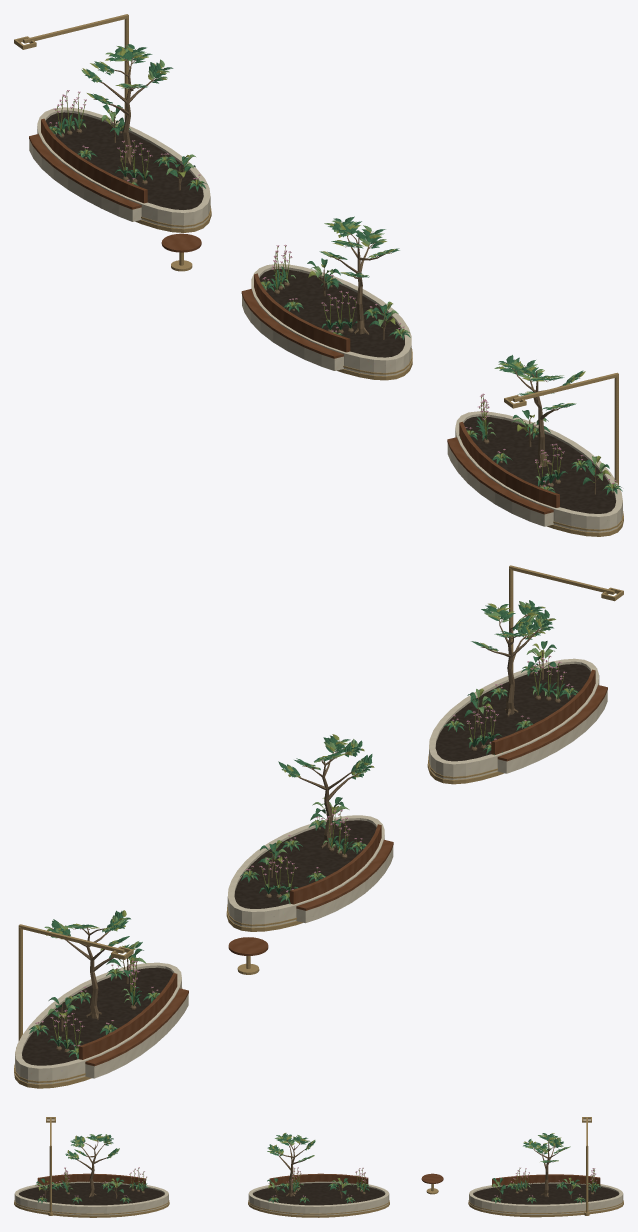
Rendered from G7_Completion_R006B_G7C6_D09_ComposedEdge.glb.
3 views of the same model, one above another, from view 1: azimuth 30°, elevation 25°; view 2: azimuth 150°, elevation 25°; view 3: azimuth 270°, elevation 25° (orthographic). The views are drawn at different scales.
Visible parts, largest first — view 1: G7C6_D09_ComposedEdge_G7C6_soil_solid_planter, G7C6_D09_ComposedEdge_G7C6_wood_solid_furniture, G7C6_D09_ComposedEdge_G7C6_stone_solid_planter, G7C6_D09_ComposedEdge_G7C6_stone_solid_furniture, G7C6_D09_ComposedEdge_ASTRAEA_botanical_leaf_jade_visual_fol, G7C6_D09_ComposedEdge_ASTRAEA_botanical_bark_solid_tree_bark, G7C6_D09_ComposedEdge_G7C6_metal_solid_fixture, G7C6_D09_ComposedEdge_G7C6_metal_solid_planter, G7C6_D09_ComposedEdge_ASTRAEA_botanical_leaf_olive.004_visua, G7C6_D09_ComposedEdge_ASTRAEA_botanical_leaf_sage_visual_fol, G7C6_D09_ComposedEdge_ASTRAEA_botanical_leaf_jade.004_visual, G7C6_D09_ComposedEdge_ASTRAEA_botanical_leaf_olive_visual_fo (+3 smaller); view 2: G7C6_D09_ComposedEdge_G7C6_soil_solid_planter, G7C6_D09_ComposedEdge_G7C6_wood_solid_furniture, G7C6_D09_ComposedEdge_G7C6_stone_solid_planter, G7C6_D09_ComposedEdge_G7C6_stone_solid_furniture, G7C6_D09_ComposedEdge_ASTRAEA_botanical_leaf_jade_visual_fol, G7C6_D09_ComposedEdge_ASTRAEA_botanical_bark_solid_tree_bark, G7C6_D09_ComposedEdge_G7C6_metal_solid_fixture, G7C6_D09_ComposedEdge_G7C6_metal_solid_planter, G7C6_D09_ComposedEdge_ASTRAEA_botanical_leaf_olive.004_visua, G7C6_D09_ComposedEdge_ASTRAEA_botanical_leaf_jade.002_visual, G7C6_D09_ComposedEdge_ASTRAEA_botanical_leaf_jade.001_visual, G7C6_D09_ComposedEdge_ASTRAEA_botanical_leaf_jade.004_visual (+3 smaller); view 3: G7C6_D09_ComposedEdge_G7C6_soil_solid_planter, G7C6_D09_ComposedEdge_G7C6_stone_solid_planter, G7C6_D09_ComposedEdge_G7C6_wood_solid_furniture, G7C6_D09_ComposedEdge_G7C6_metal_solid_planter, G7C6_D09_ComposedEdge_ASTRAEA_botanical_leaf_jade_visual_fol, G7C6_D09_ComposedEdge_ASTRAEA_botanical_bark_solid_tree_bark, G7C6_D09_ComposedEdge_G7C6_metal_solid_fixture, G7C6_D09_ComposedEdge_ASTRAEA_botanical_leaf_olive.004_visua, G7C6_D09_ComposedEdge_ASTRAEA_botanical_leaf_olive_visual_fo, G7C6_D09_ComposedEdge_ASTRAEA_botanical_leaf_sage_visual_fol, G7C6_D09_ComposedEdge_ASTRAEA_botanical_leaf_jade.002_visual, G7C6_D09_ComposedEdge_ASTRAEA_botanical_leaf_jade.001_visual (+7 smaller).
Part boxes in pixels (x1,y1,x2,y2): G7C6_D09_ComposedEdge_G7C6_soil_solid_planter: (46,112,615,513); G7C6_D09_ComposedEdge_G7C6_wood_solid_furniture: (29,118,559,514); G7C6_D09_ComposedEdge_G7C6_stone_solid_planter: (37,107,622,532); G7C6_D09_ComposedEdge_G7C6_stone_solid_furniture: (29,140,553,526); G7C6_D09_ComposedEdge_ASTRAEA_botanical_leaf_jade_visual_fol: (85,44,583,410); G7C6_D09_ComposedEdge_ASTRAEA_botanical_bark_solid_tree_bark: (85,49,579,468); G7C6_D09_ComposedEdge_G7C6_metal_solid_fixture: (14,14,618,485); G7C6_D09_ComposedEdge_G7C6_metal_solid_planter: (135,206,623,536); G7C6_D09_ComposedEdge_ASTRAEA_botanical_leaf_olive.004_visua: (55,91,563,485); G7C6_D09_ComposedEdge_ASTRAEA_botanical_leaf_sage_visual_fol: (81,45,578,408); G7C6_D09_ComposedEdge_ASTRAEA_botanical_leaf_jade.004_visual: (50,113,567,486); G7C6_D09_ComposedEdge_ASTRAEA_botanical_leaf_olive_visual_fo: (82,47,585,408); G7C6_D09_ComposedEdge_G7C6_soil_solid_planter: (22,664,590,1065); G7C6_D09_ComposedEdge_G7C6_wood_solid_furniture: (79,669,607,1066); G7C6_D09_ComposedEdge_G7C6_stone_solid_planter: (15,658,599,1084); G7C6_D09_ComposedEdge_G7C6_stone_solid_furniture: (85,691,607,1078); G7C6_D09_ComposedEdge_ASTRAEA_botanical_leaf_jade_visual_fol: (48,600,553,949); G7C6_D09_ComposedEdge_ASTRAEA_botanical_bark_solid_tree_bark: (51,607,550,1020); G7C6_D09_ComposedEdge_G7C6_metal_solid_fixture: (16,565,623,1047); G7C6_D09_ComposedEdge_G7C6_metal_solid_planter: (14,754,503,1088); G7C6_D09_ComposedEdge_ASTRAEA_botanical_leaf_olive.004_visua: (52,657,565,1049); G7C6_D09_ComposedEdge_ASTRAEA_botanical_leaf_jade.002_visual: (29,666,578,1058); G7C6_D09_ComposedEdge_ASTRAEA_botanical_leaf_jade.001_visual: (48,641,556,1017); G7C6_D09_ComposedEdge_ASTRAEA_botanical_leaf_jade.004_visual: (48,682,567,1048); G7C6_D09_ComposedEdge_G7C6_soil_solid_planter: (19,1183,618,1205); G7C6_D09_ComposedEdge_G7C6_stone_solid_planter: (14,1181,623,1215); G7C6_D09_ComposedEdge_G7C6_wood_solid_furniture: (37,1173,600,1186); G7C6_D09_ComposedEdge_G7C6_metal_solid_planter: (14,1200,623,1217); G7C6_D09_ComposedEdge_ASTRAEA_botanical_leaf_jade_visual_fol: (65,1133,567,1162); G7C6_D09_ComposedEdge_ASTRAEA_botanical_bark_solid_tree_bark: (72,1139,565,1197); G7C6_D09_ComposedEdge_G7C6_metal_solid_fixture: (46,1117,591,1215); G7C6_D09_ComposedEdge_ASTRAEA_botanical_leaf_olive.004_visua: (64,1168,594,1192); G7C6_D09_ComposedEdge_ASTRAEA_botanical_leaf_olive_visual_fo: (67,1133,568,1162); G7C6_D09_ComposedEdge_ASTRAEA_botanical_leaf_sage_visual_fol: (67,1134,570,1162); G7C6_D09_ComposedEdge_ASTRAEA_botanical_leaf_jade.002_visual: (37,1184,600,1203); G7C6_D09_ComposedEdge_ASTRAEA_botanical_leaf_jade.001_visual: (36,1177,579,1194).
Size of the model in its own units: 3.31 by 3.39 by 26.85.
Materials: 23 (22 with a texture image).
